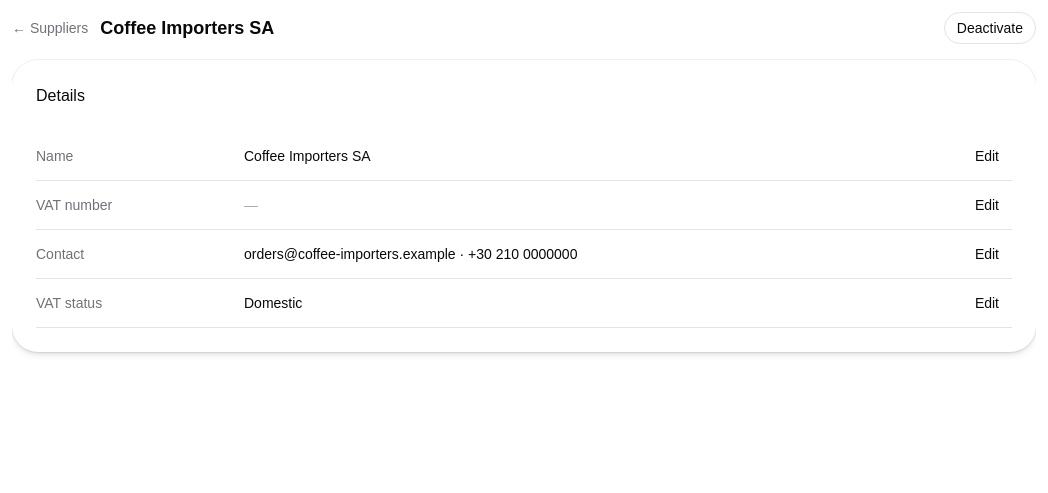
Scenario: the supplier detail › shows the reason it cannot save an intra-EU status without a VAT number
The width and height of the screenshot is (1048, 493).
Later steps or results of the test are not shown.
Check: the heading "Coffee Importers SA" is shown, box [100,14,274,42]
Click the button with aria-label "Edit VAT status" at (987, 303), box [962,287,1012,319]
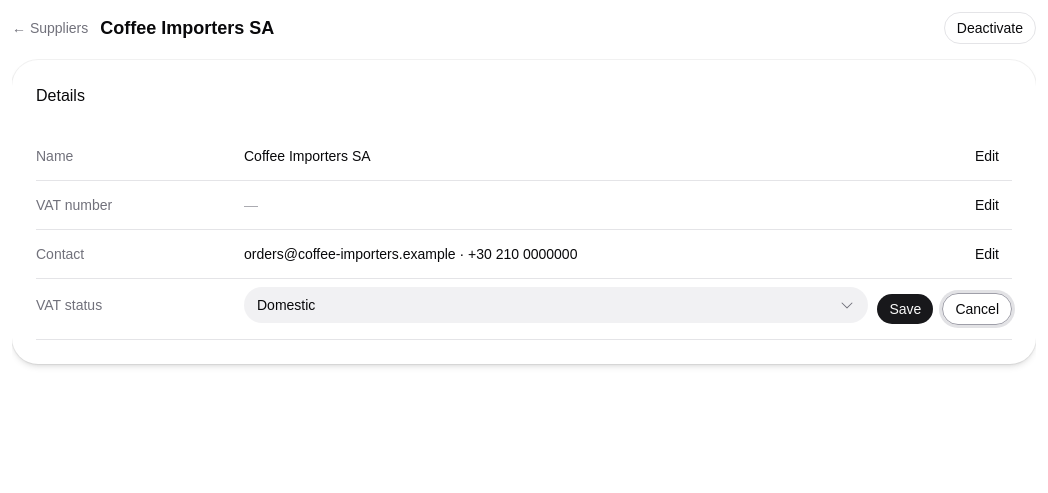
Click the dropdown named "VAT status" at (286, 305), box [244,287,868,323]
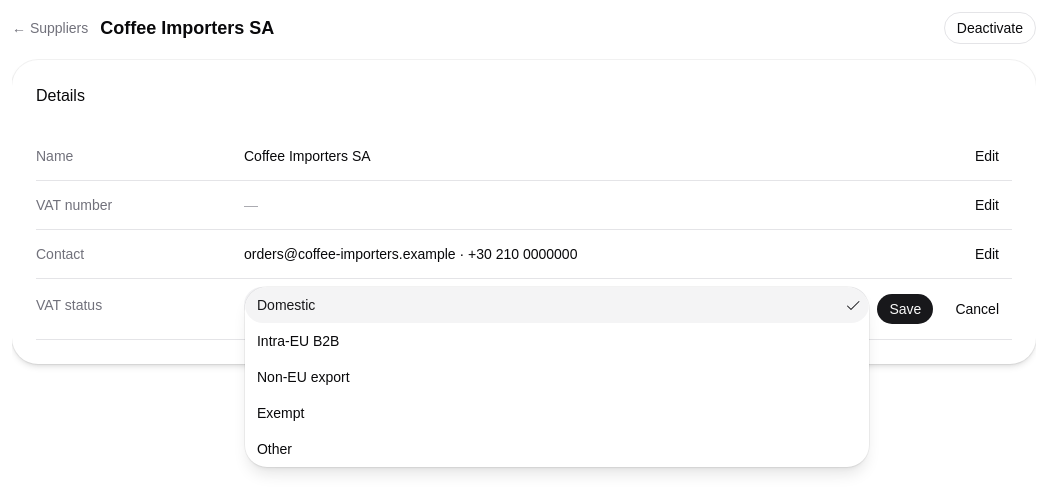
Click the option "Intra-EU B2B" at (298, 341), box [257,333,340,349]
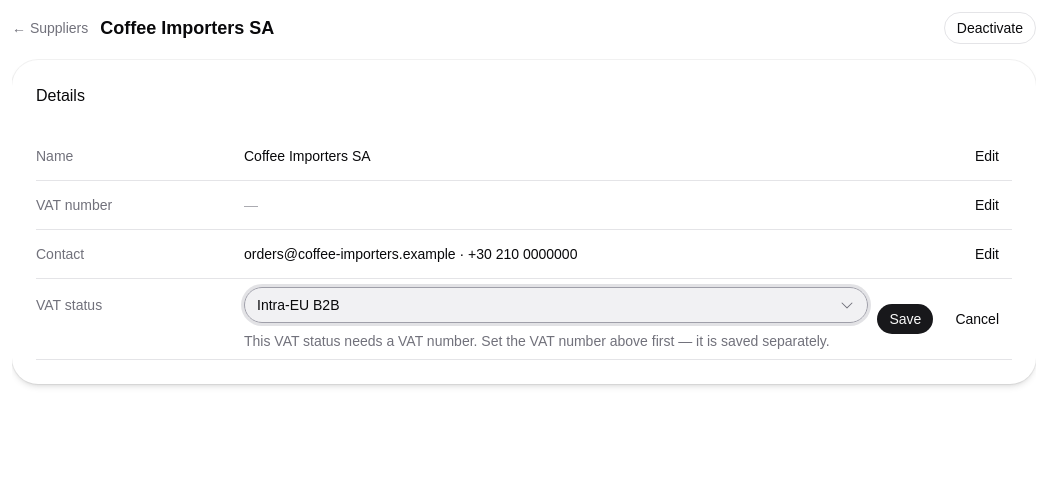
Check: the text "needs a VAT number" is shown, box [244,333,830,349]
